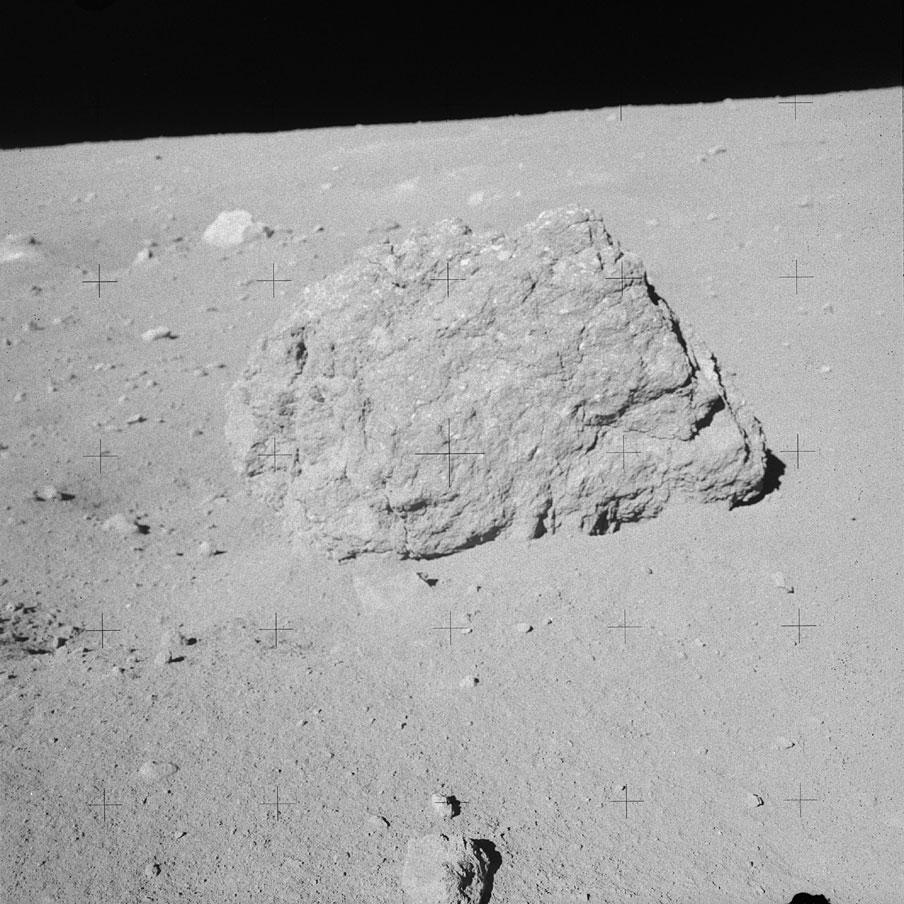rock: (226, 208, 768, 558)
